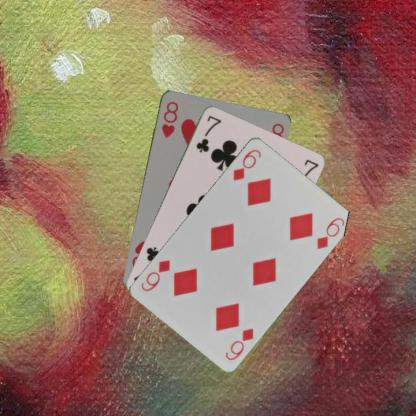6d: (222, 324, 255, 362), (230, 146, 263, 182)
7c: (193, 112, 222, 154)
8h: (158, 98, 180, 139)
